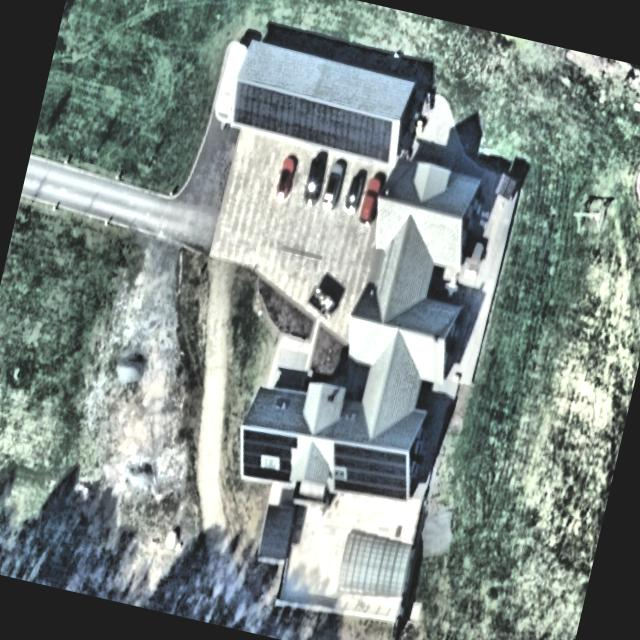roof_pv: (227, 79, 401, 166), (323, 440, 412, 503), (229, 422, 303, 491)
